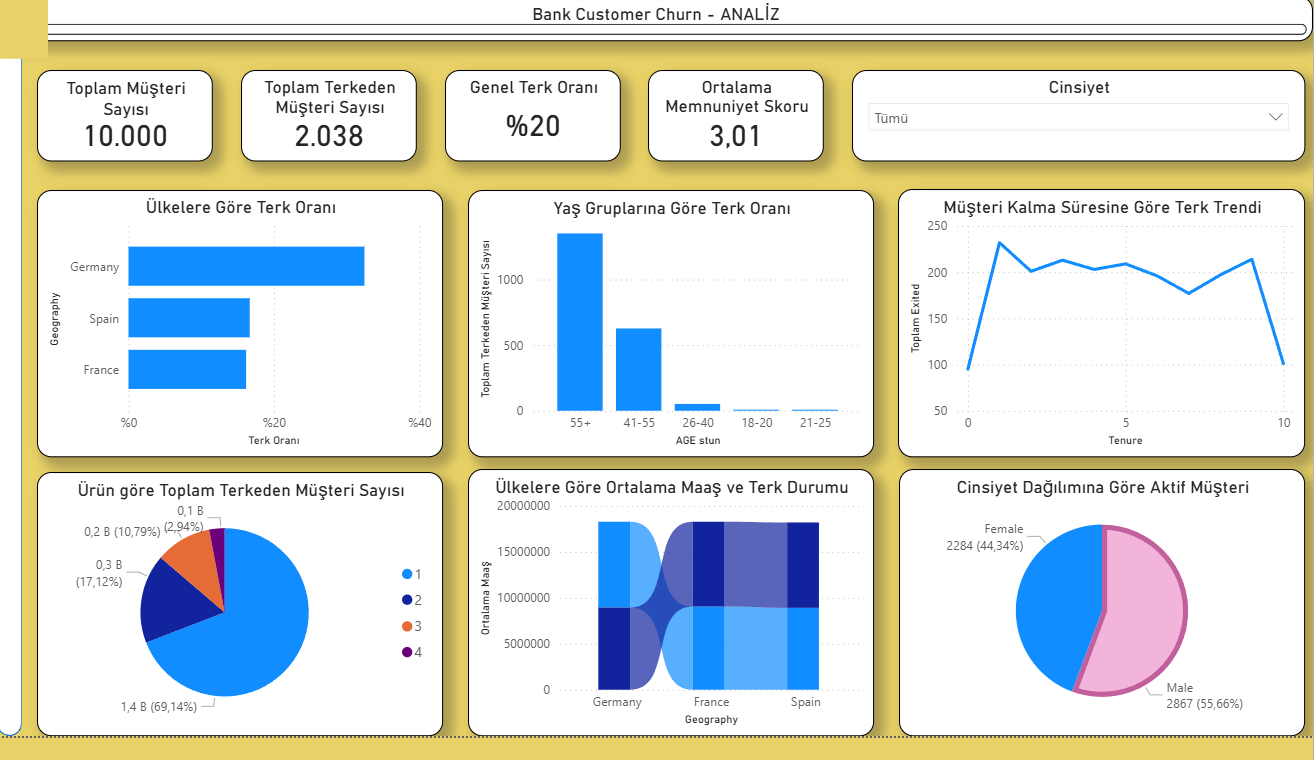

The page's visual inventory and layout, read from the dashboard file:
{"tool":"powerbi","page":{"name":"1. sayfa","canvas":[1280,720],"ordinal":0},"visuals":[{"type":"card","title":"Toplam Müşteri  Sayısı","fields":{"Values":["Customer-Churn-Records.Toplam Müşteri Sayısı"]},"box":[38.9,72,171.2,88.5],"z":0},{"type":"card","title":"Toplam Terkeden Müşteri Sayısı","fields":{"Values":["Customer-Churn-Records.Toplam Terkeden Müşteri Sayısı"]},"box":[237.1,72,171.2,88.5],"z":1000},{"type":"card","title":"Genel Terk Oranı","fields":{"Values":["Customer-Churn-Records.Terk Oranı"]},"box":[435.3,72,171.2,88.5],"z":2000},{"type":"card","title":"Ortalama Memnuniyet Skoru","fields":{"Values":["Customer-Churn-Records.Ortalama Skor"]},"box":[633.4,72,171.2,88.5],"z":3000},{"type":"barChart","title":"Ülkelere Göre Terk Oranı","fields":{"Y":["Customer-Churn-Records.Terk Oranı"],"Category":["Customer-Churn-Records.Geography"]},"box":[38.9,188.7,394.9,259.7],"z":4000},{"type":"pieChart","title":"Ürün göre Toplam Terkeden Müşteri Sayısı","fields":{"Category":["Customer-Churn-Records.NumOfProducts"],"Y":["Customer-Churn-Records.Toplam Terkeden Müşteri Sayısı"]},"box":[39,463,395,257],"z":5000},{"type":"clusteredColumnChart","title":"Yaş Gruplarına Göre Terk Oranı","fields":{"Category":["Customer-Churn-Records.AGE stun"],"Y":["Customer-Churn-Records.Toplam Terkeden Müşteri Sayısı"]},"box":[457.6,188.7,394.9,259.7],"z":6000},{"type":"slicer","title":"Cinsiyet","fields":{"Values":["Customer-Churn-Records.Gender"]},"box":[831.6,72,440.6,88.5],"z":7000},{"type":"lineChart","title":"Müşteri Kalma Süresine Göre Terk Trendi","fields":{"Category":["Customer-Churn-Records.Tenure"],"Y":["Sum(Customer-Churn-Records.Exited)"]},"box":[876.4,187.7,395.9,260.7],"z":8000},{"type":"ribbonChart","title":"Ülkelere Göre Ortalama Maaş ve Terk Durumu","fields":{"Category":["Customer-Churn-Records.Geography"],"Y":["Avg(Customer-Churn-Records.EstimatedSalary)"],"Series":["Customer-Churn-Records.Exited"]},"box":[458.1,460.1,394.9,259.7],"z":9000},{"type":"pieChart","title":"Cinsiyet Dağılımına Göre Aktif Müşteri ","fields":{"Category":["Customer-Churn-Records.Gender"],"Y":["Sum(Customer-Churn-Records.IsActiveMember)"]},"box":[877.3,460.1,394.9,259.7],"z":10000},{"type":"shape","box":[0,0,24.3,719.8],"z":11000},{"type":"shape","title":"Bank Customer Churn - ANALİZ","box":[0,0,1280,43.8],"z":12000},{"type":"shape","box":[0,0,49.6,61.3],"z":13000}]}

Visuals, with their boxes in screenshot pixels (x1, y1, x2, y2), scaled from the page's 1280x720 canvas onto the 1314x760 screenshot:
"Toplam Müşteri  Sayısı" card: region(40, 76, 216, 169)
"Toplam Terkeden Müşteri Sayısı" card: region(243, 76, 419, 169)
"Genel Terk Oranı" card: region(447, 76, 623, 169)
"Ortalama Memnuniyet Skoru" card: region(650, 76, 826, 169)
"Ülkelere Göre Terk Oranı" barChart: region(40, 199, 445, 473)
"Ürün göre Toplam Terkeden Müşteri Sayısı" pieChart: region(40, 489, 446, 759)
"Yaş Gruplarına Göre Terk Oranı" clusteredColumnChart: region(470, 199, 875, 473)
"Cinsiyet" slicer: region(854, 76, 1306, 169)
"Müşteri Kalma Süresine Göre Terk Trendi" lineChart: region(900, 198, 1306, 473)
"Ülkelere Göre Ortalama Maaş ve Terk Durumu" ribbonChart: region(470, 486, 876, 759)
"Cinsiyet Dağılımına Göre Aktif Müşteri " pieChart: region(901, 486, 1306, 759)
shape: region(0, 0, 25, 759)
"Bank Customer Churn - ANALİZ" shape: region(0, 0, 1313, 46)
shape: region(0, 0, 51, 65)
